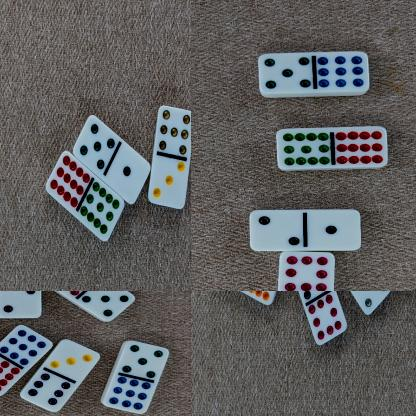pip-1: (305, 209, 362, 251), (111, 150, 152, 207)
pip-10: (242, 291, 284, 305)
pip-11: (81, 184, 124, 241), (276, 127, 331, 169)
pip-12: (46, 156, 90, 208), (333, 127, 388, 168), (0, 354, 20, 397)
pip-2: (249, 210, 305, 252), (0, 291, 42, 317)
pip-3: (149, 158, 189, 212), (51, 340, 101, 378)
pip-4: (352, 291, 391, 316)
pip-5: (258, 52, 314, 96), (74, 116, 115, 170), (123, 340, 169, 380), (81, 291, 136, 322)
pip-6: (21, 372, 72, 412)
pip-7: (156, 106, 191, 160)
pip-8: (278, 251, 336, 291), (309, 295, 348, 346)
pip-9: (314, 52, 370, 93), (0, 326, 53, 366), (106, 377, 152, 415)
